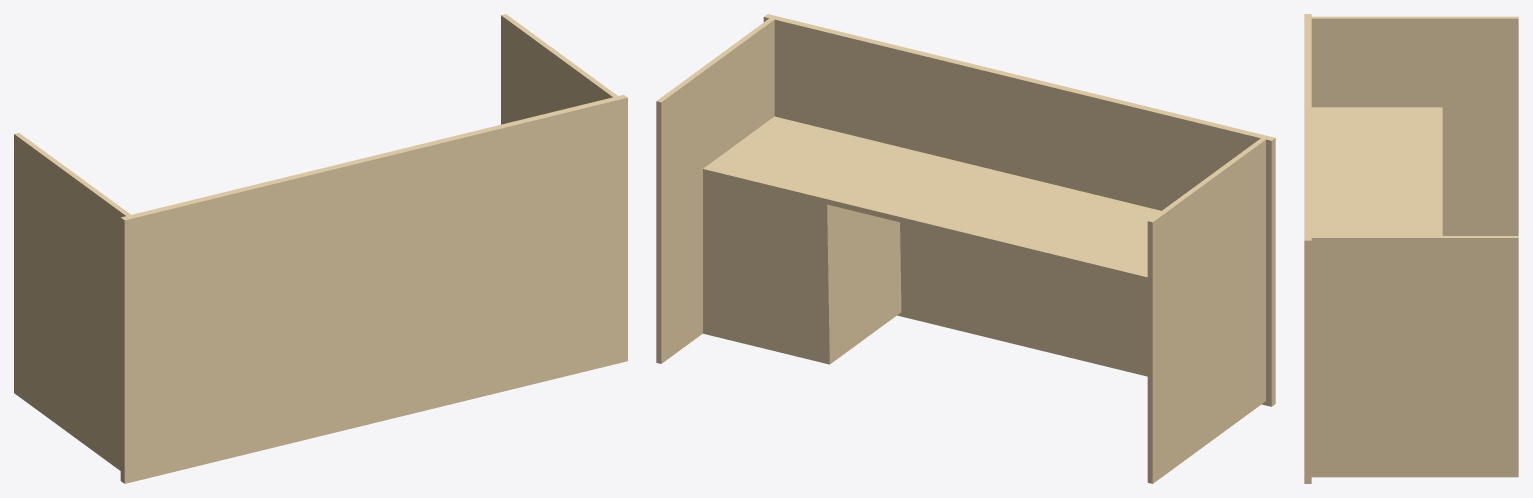
3 renders of one model, left to right at view 1: azimuth 30°, elevation 25°; view 2: azimuth 150°, elevation 25°; view 3: azimuth 270°, elevation 25°, orthographic. The views are drawn at different scales.
Visible parts, largest first — view 1: x study desk with drawers; view 2: x study desk with drawers; view 3: x study desk with drawers.
Boxes of the visible parts, bbox=[...] form: x study desk with drawers: bbox=[14, 14, 627, 483]; x study desk with drawers: bbox=[656, 14, 1275, 483]; x study desk with drawers: bbox=[1304, 14, 1518, 483].
Size of the model in its own units: 70.87 by 36.1 by 28.35.
